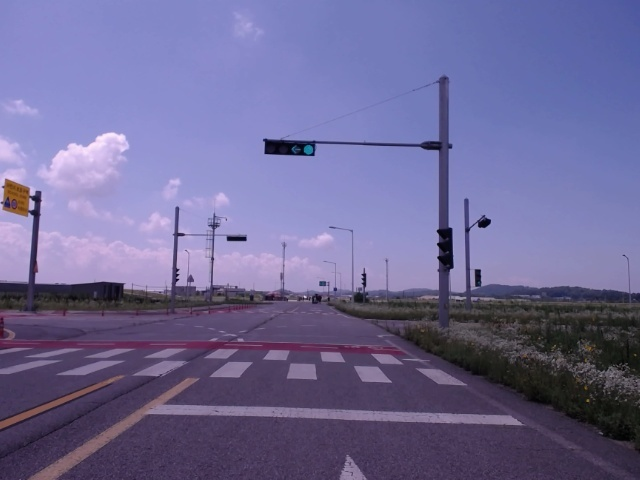all_green_4: (266, 138, 318, 155)
